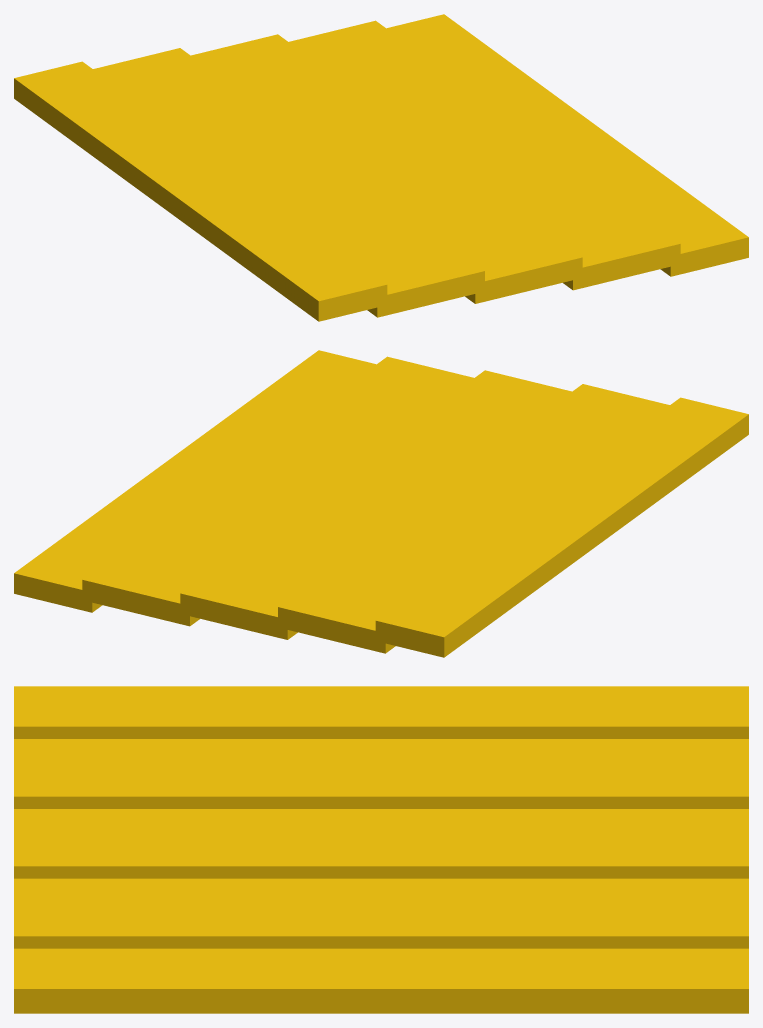
The model's file is taxi_bonnet.glb.
3 renders of one model, top to bottom at view 1: azimuth 30°, elevation 25°; view 2: azimuth 150°, elevation 25°; view 3: azimuth 270°, elevation 25°, orthographic. The views are drawn at different scales.
Parts seen in each view (by area): view 1: body:compound; view 2: body:compound; view 3: body:compound.
Boxes of the visible parts, x1=… form: body:compound: x1=14, y1=14, x2=748, y2=321; body:compound: x1=14, y1=350, x2=748, y2=657; body:compound: x1=14, y1=686, x2=748, y2=1013.
Bounding box in the file's own units: 1.38 × 0.1875 × 1.69.
